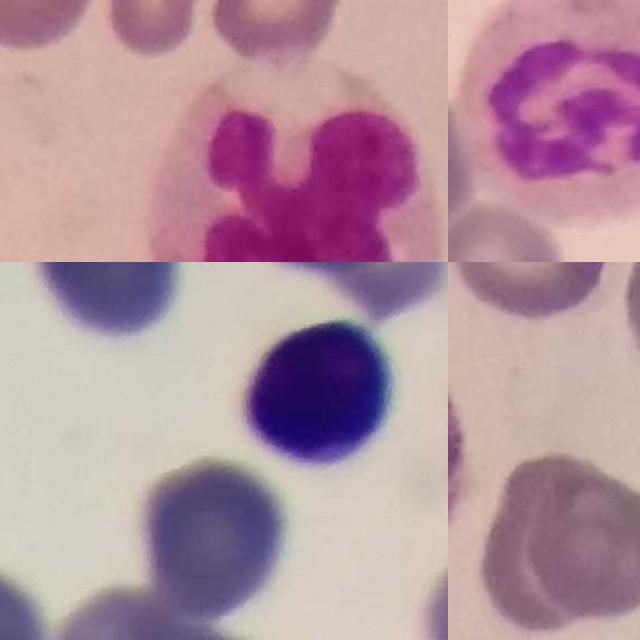Lymphocyte: (242, 317, 392, 467)
Monocyte: (152, 61, 443, 262)
Neutrophil: (463, 0, 640, 224)
